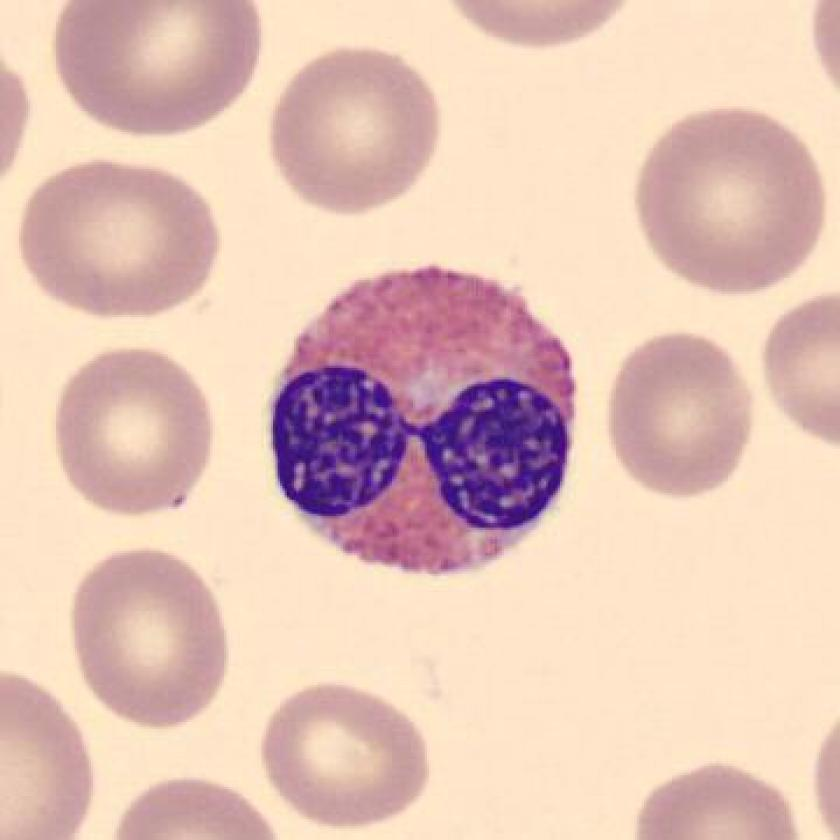eosinophil: (258, 256, 591, 584)
